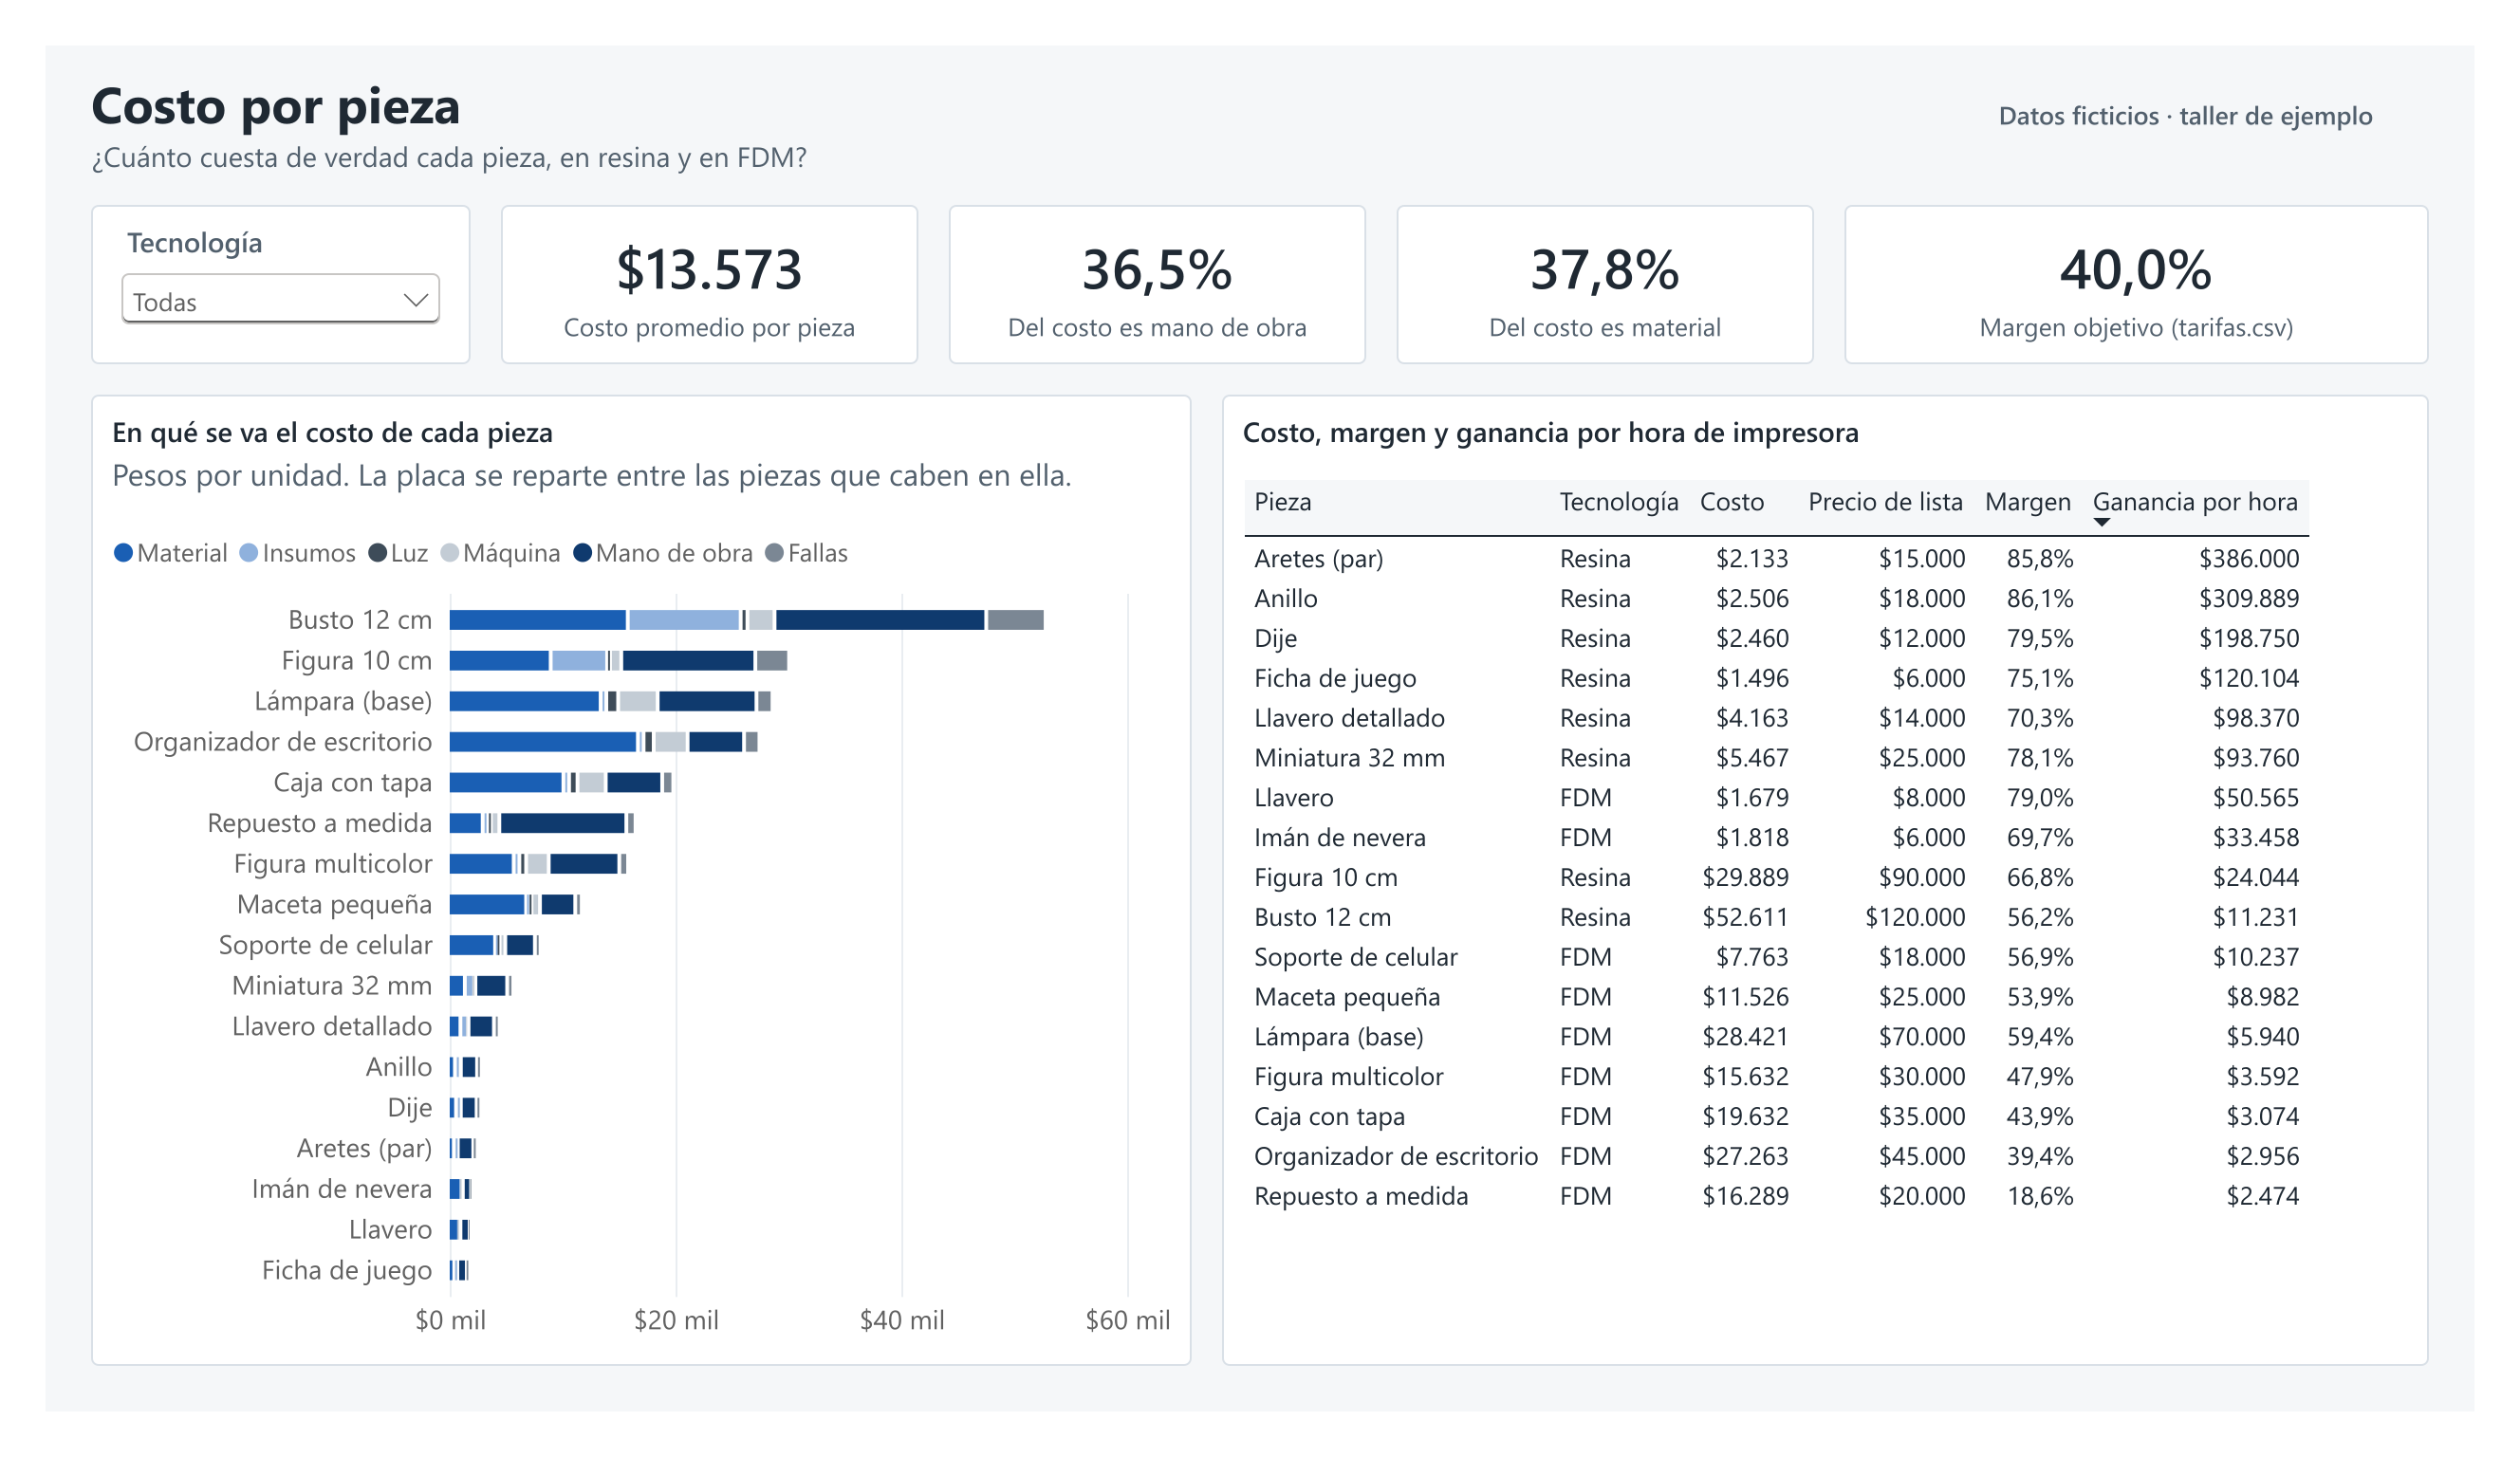

Layout of this report page (visuals, bound fields, positions):
{"tool":"powerbi","page":{"name":"Costo por pieza","canvas":[1280,720],"ordinal":0},"visuals":[{"type":"textbox","box":[24,12,900,64],"z":0},{"type":"card","fields":{"Values":["Medidas.Origen de los datos"]},"box":[1000,12,256,56],"z":1000},{"type":"slicer","fields":{"Values":["Piezas.tecnologia"]},"box":[24,84,200,84],"z":2000},{"type":"card","fields":{"Values":["Medidas.Costo promedio"]},"box":[240,84,220,84],"z":3000},{"type":"card","fields":{"Values":["Medidas.% mano de obra"]},"box":[476,84,220,84],"z":4000},{"type":"card","fields":{"Values":["Medidas.% material"]},"box":[712,84,220,84],"z":5000},{"type":"card","fields":{"Values":["Medidas.Margen objetivo"]},"box":[948,84,308,84],"z":6000},{"type":"barChart","title":"En qué se va el costo de cada pieza","fields":{"Category":["Piezas.nombre"],"Y":["Medidas.Material","Medidas.Insumos","Medidas.Luz","Medidas.Máquina","Medidas.Mano de obra","Medidas.Fallas"]},"box":[24,184,580,512],"z":7000},{"type":"tableEx","title":"Costo, margen y ganancia por hora de impresora","fields":{"Values":["Piezas.nombre","Piezas.tecnologia","Medidas.Costo por unidad","Medidas.Precio de lista","Medidas.Margen a precio de lista","Medidas.Ganancia por hora de impresora"]},"box":[620,184,636,512],"z":8000}]}

Visuals, with their boxes in screenshot pixels (x1, y1, x2, y2), scaled from the page's 1280x720 canvas onto the 2520x1457 screenshot:
textbox: x1=47 y1=25 x2=1819 y2=154
card - Medidas.Origen de los datos: x1=1969 y1=25 x2=2473 y2=138
slicer - Piezas.tecnologia: x1=47 y1=170 x2=441 y2=340
card - Medidas.Costo promedio: x1=472 y1=170 x2=906 y2=340
card - Medidas.% mano de obra: x1=937 y1=170 x2=1370 y2=340
card - Medidas.% material: x1=1401 y1=170 x2=1835 y2=340
card - Medidas.Margen objetivo: x1=1866 y1=170 x2=2473 y2=340
"En qué se va el costo de cada pieza" barChart: x1=47 y1=373 x2=1189 y2=1409
"Costo, margen y ganancia por hora de impresora" tableEx: x1=1220 y1=373 x2=2473 y2=1409
